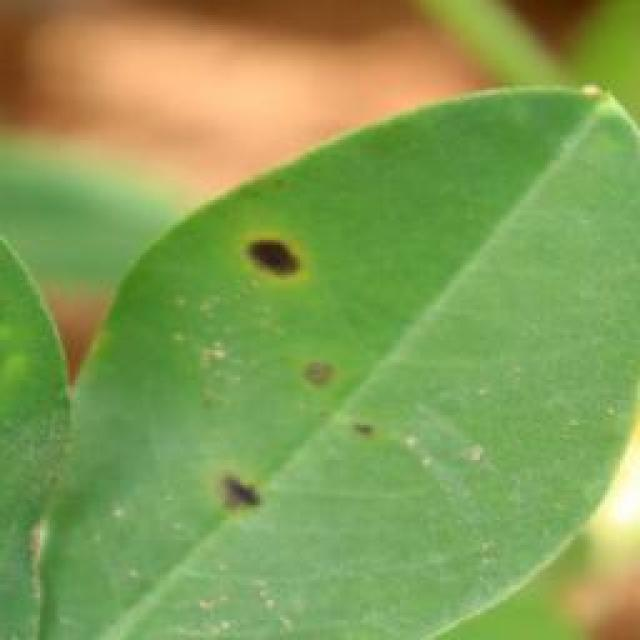Sigatoka: (282, 350, 381, 468), (225, 204, 337, 307), (198, 430, 279, 533)
